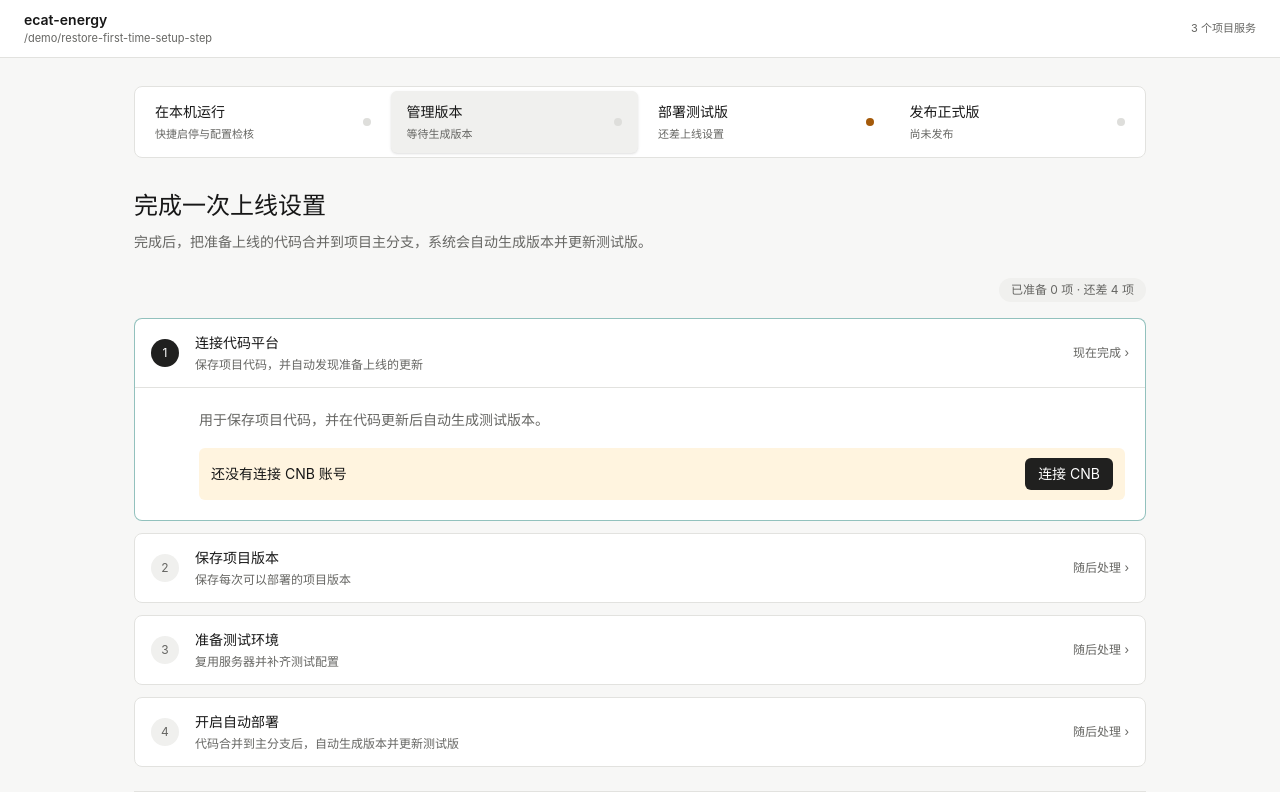
Test case: ProductWorkspace blocking states › restores the real pending setup section instead of a stale viewed section
expect the button "1 连接代码平台 保存项目代码，并自动发现准备上线的更新 现在完成 ›" is shown: met, box [135, 319, 1145, 387]
expect the text "用于保存项目代码，并在代码更新后自动生成测试版本。" is shown: met, box [199, 411, 549, 428]
Click the button "3 准备测试环境 复用服务器并补齐测试配置 随后处理 ›" at (237, 640), box [135, 616, 1145, 684]
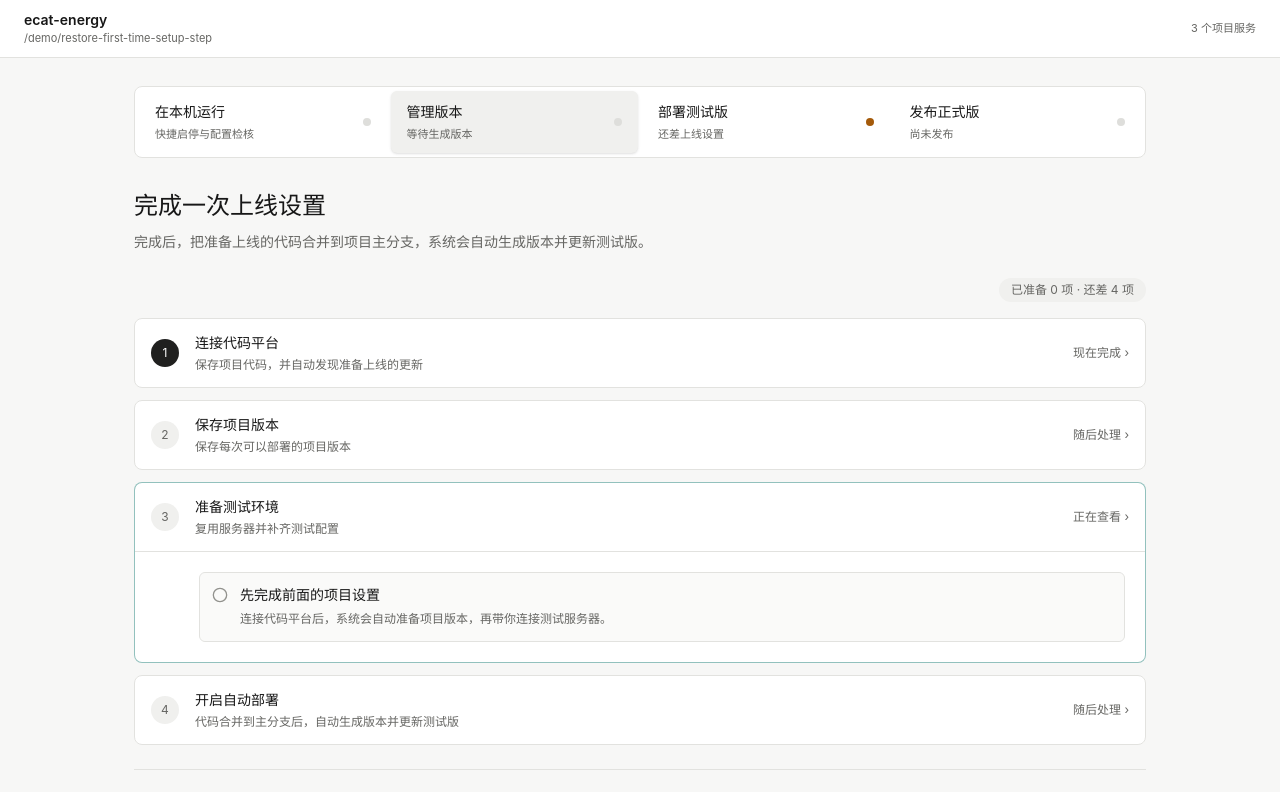
expect the button "1 连接代码平台 保存项目代码，并自动发现准备上线的更新 现在完成 ›" is shown: met, box [135, 319, 1145, 387]
expect the button "3 准备测试环境 复用服务器并补齐测试配置 正在查看 ›" is shown: met, box [135, 483, 1145, 551]
